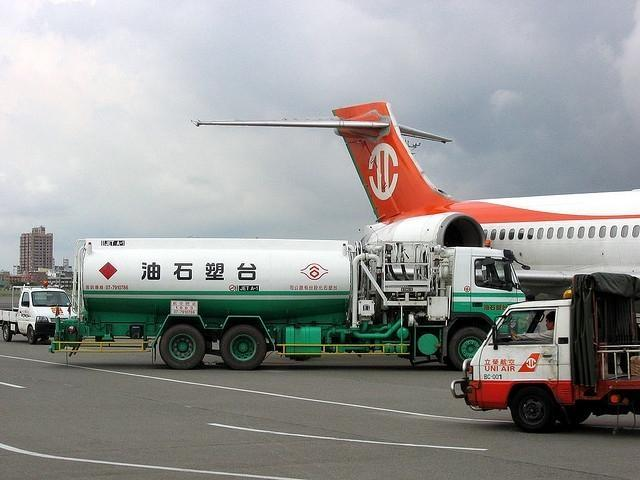truck: (46, 238, 526, 372), (442, 269, 640, 438), (0, 281, 78, 345)
